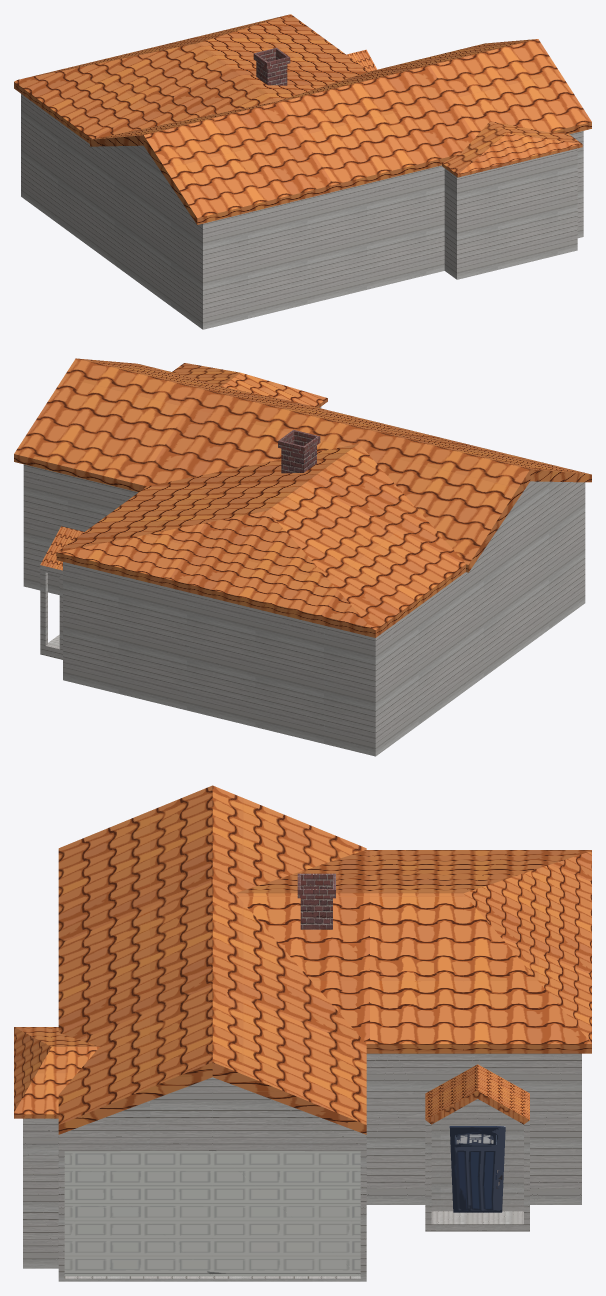
File: House Model 1.fbx
3 renders of one model, top to bottom at view 1: azimuth 30°, elevation 25°; view 2: azimuth 150°, elevation 25°; view 3: azimuth 270°, elevation 25°, orthographic. The views are drawn at different scales.
Visible parts, largest first — view 1: Main Building, Roof2, Roof, roof3, Chimney; view 2: Main Building, Roof, Roof2, roof3, Chimney, Entrance, Entrance.Roof; view 3: Main Building, Roof2, Roof, Entrance, roof3, door, Entrance.Roof, Chimney.
Part boxes in pixels (<box>): Main Building: <box>21,94,583,329</box>; Roof2: <box>90,39,591,224</box>; Roof: <box>14,14,368,143</box>; roof3: <box>442,121,582,177</box>; Chimney: <box>253,47,290,85</box>; Main Building: <box>23,407,585,756</box>; Roof: <box>56,444,465,637</box>; Roof2: <box>14,358,591,572</box>; roof3: <box>172,363,327,407</box>; Chimney: <box>278,429,320,473</box>; Entrance: <box>40,565,62,659</box>; Entrance.Roof: <box>40,526,83,570</box>; Main Building: <box>23,1053,581,1281</box>; Roof2: <box>58,785,366,1134</box>; Roof: <box>235,850,591,1053</box>; Entrance: <box>425,1099,529,1231</box>; roof3: <box>14,1027,99,1118</box>; door: <box>449,1126,505,1212</box>; Entrance.Roof: <box>425,1064,529,1124</box>; Chimney: <box>297,873,335,929</box>.
Size of the model in its own units: 632 by 558 by 260.
5 materials, 5 textured.
